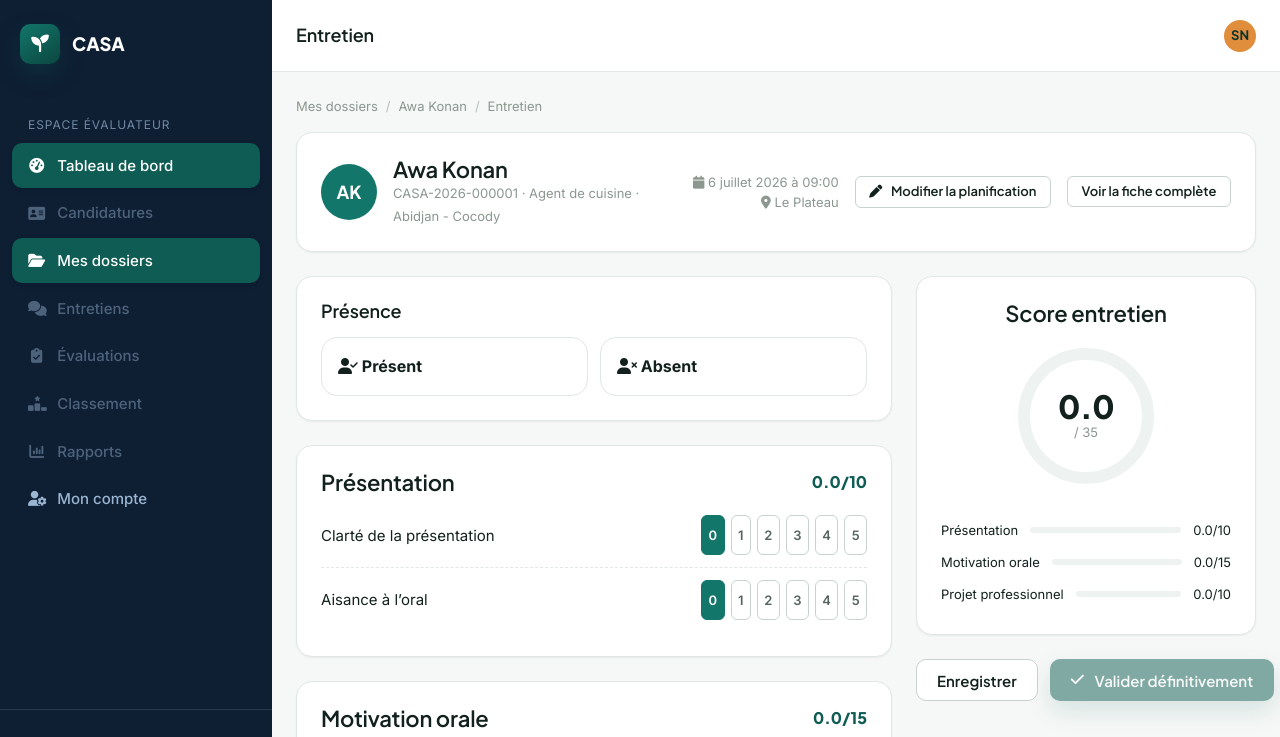
Entretien — notation : le score AFFICHÉ vient toujours de la réponse API › présence Présent + sous-notes saisies -> PUT avec `notes`, le nouvel aperçu est affiché
Expected: the heading "Présentation" is shown, top-left (321, 470), bottom-right (454, 495)
Click the button "Présent": [390, 366] box top-left (321, 337), bottom-right (588, 396)
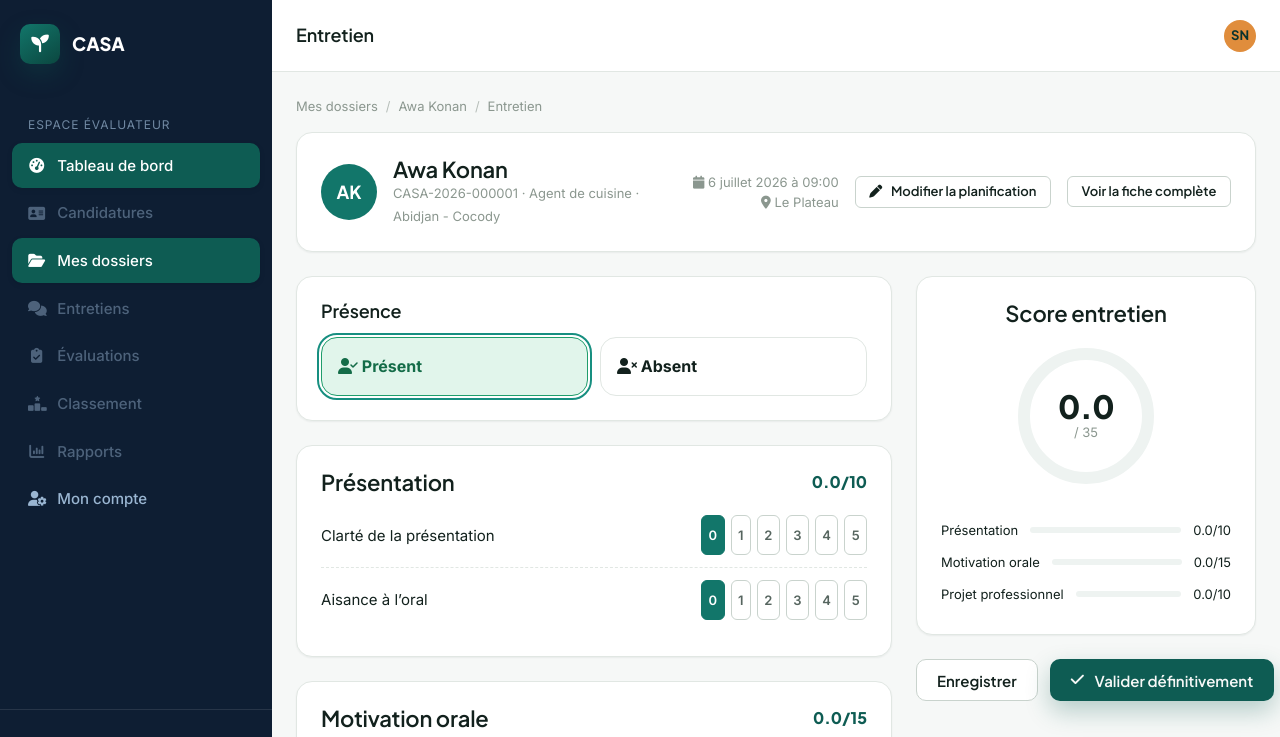
Click the button "4" in the row of "Clarté de la présentation": [827, 535] box top-left (815, 515), bottom-right (838, 555)
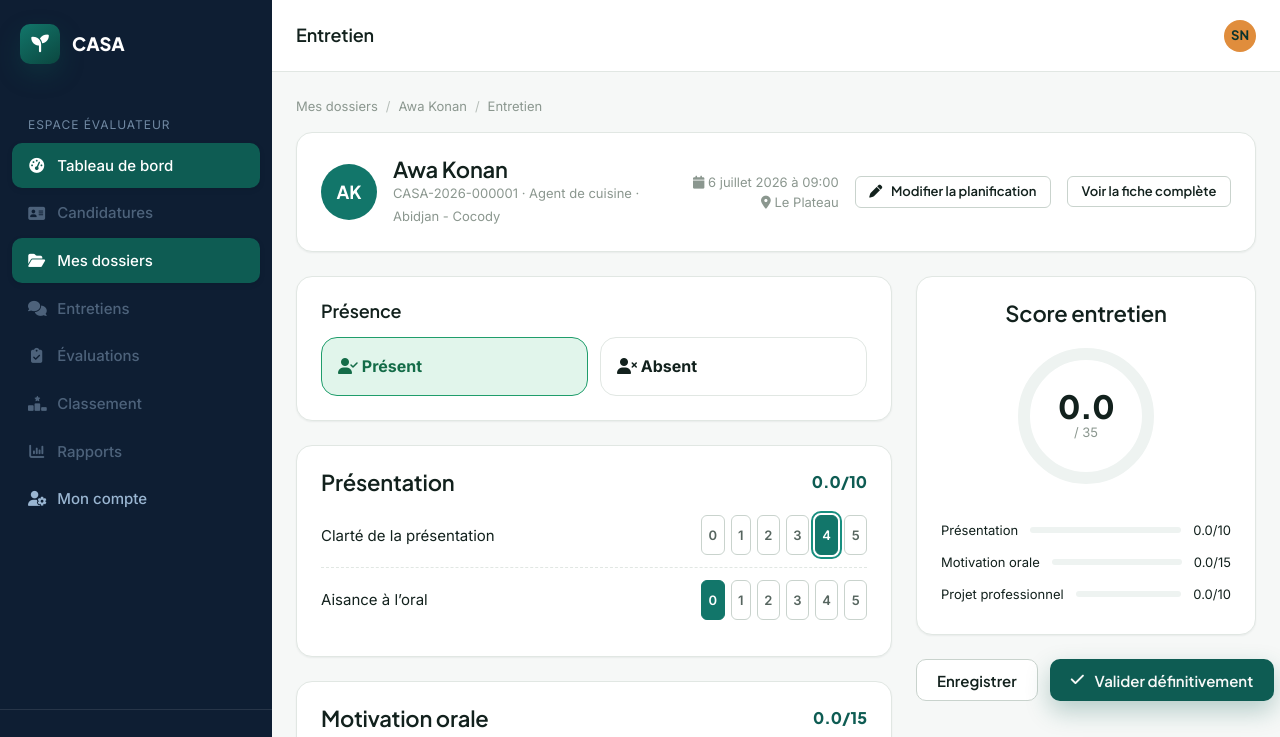
Click the button "Enregistrer": [977, 680] box top-left (916, 659), bottom-right (1038, 701)
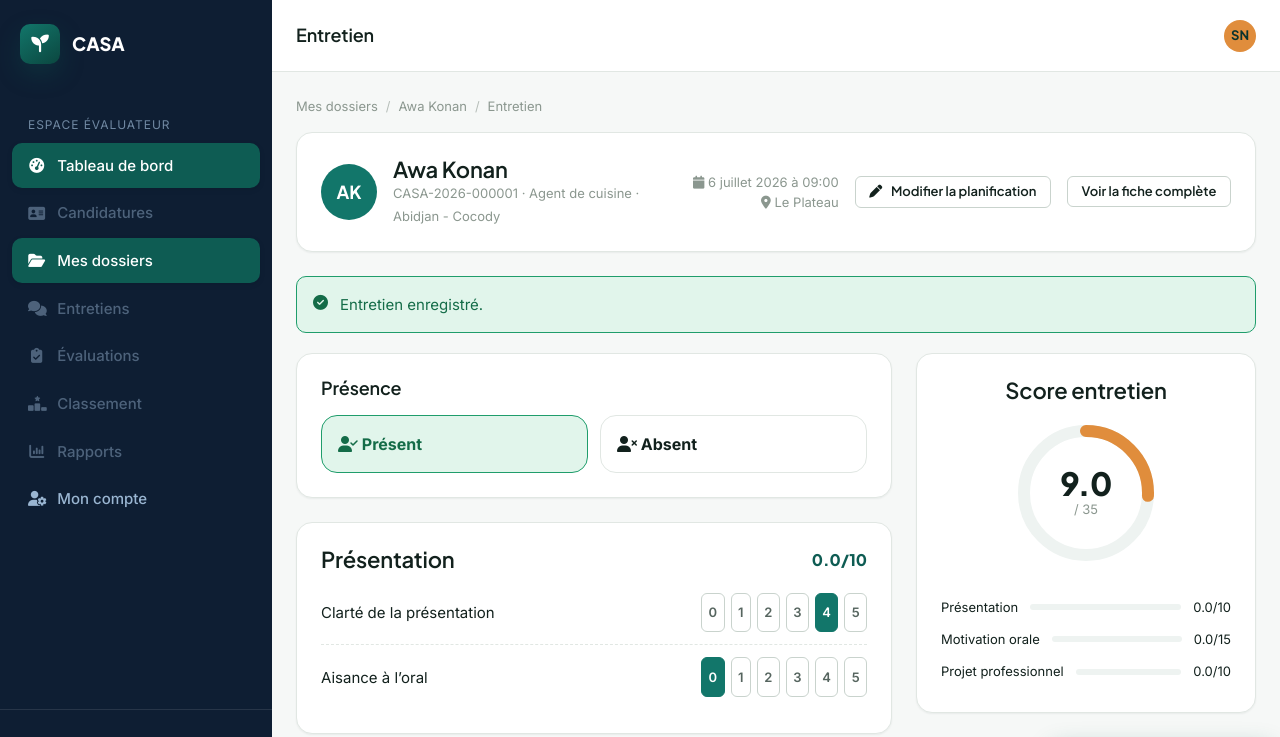
Result: the text "9.0" is shown at top-left (1060, 467), bottom-right (1112, 499)
